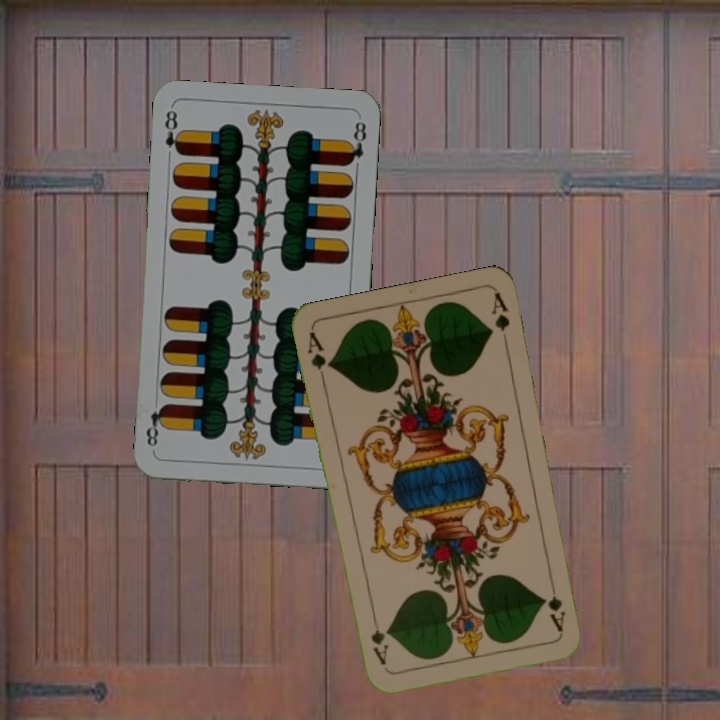E8: (160, 105, 185, 158)
GA: (303, 327, 334, 386), (544, 591, 569, 634)
